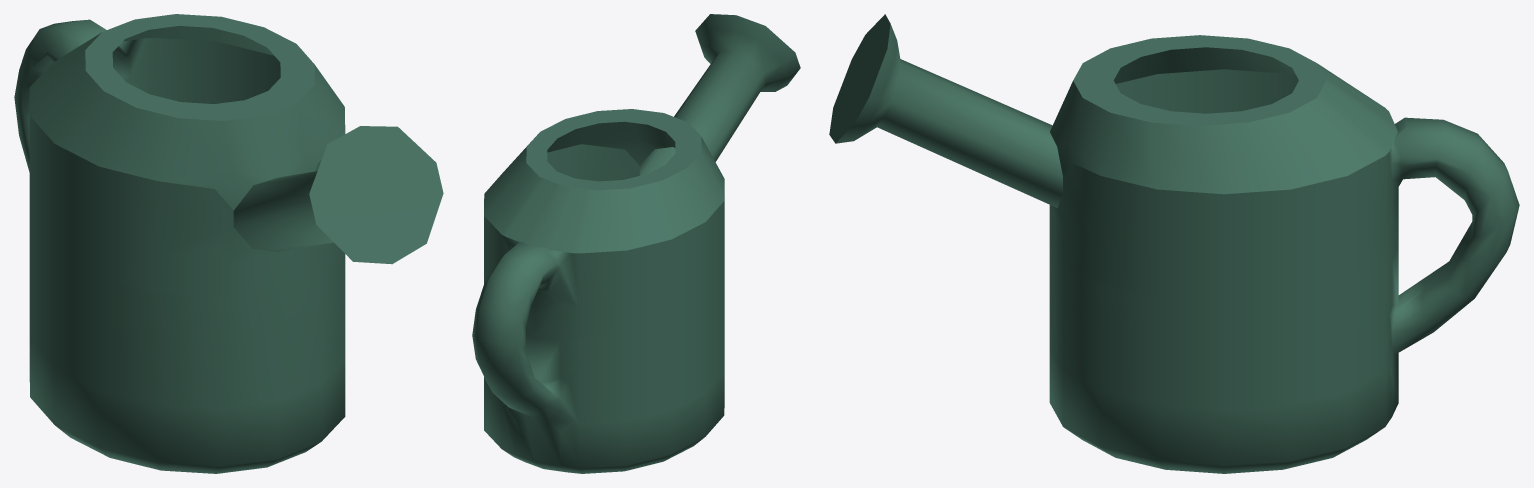
The model's file is WateringCan.fbx.
3 views of the same model, side by side, from view 1: azimuth 30°, elevation 25°; view 2: azimuth 150°, elevation 25°; view 3: azimuth 270°, elevation 25° (orthographic). The views are drawn at different scales.
Parts seen in each view (by area): view 1: Circle; view 2: Circle; view 3: Circle.
Part boxes in pixels (left/top/right/bottom): Circle: left=14, top=14, right=443, bottom=473; Circle: left=472, top=14, right=800, bottom=473; Circle: left=829, top=14, right=1519, bottom=473.
Bounding box in the file's own units: 170 × 250 × 396.
